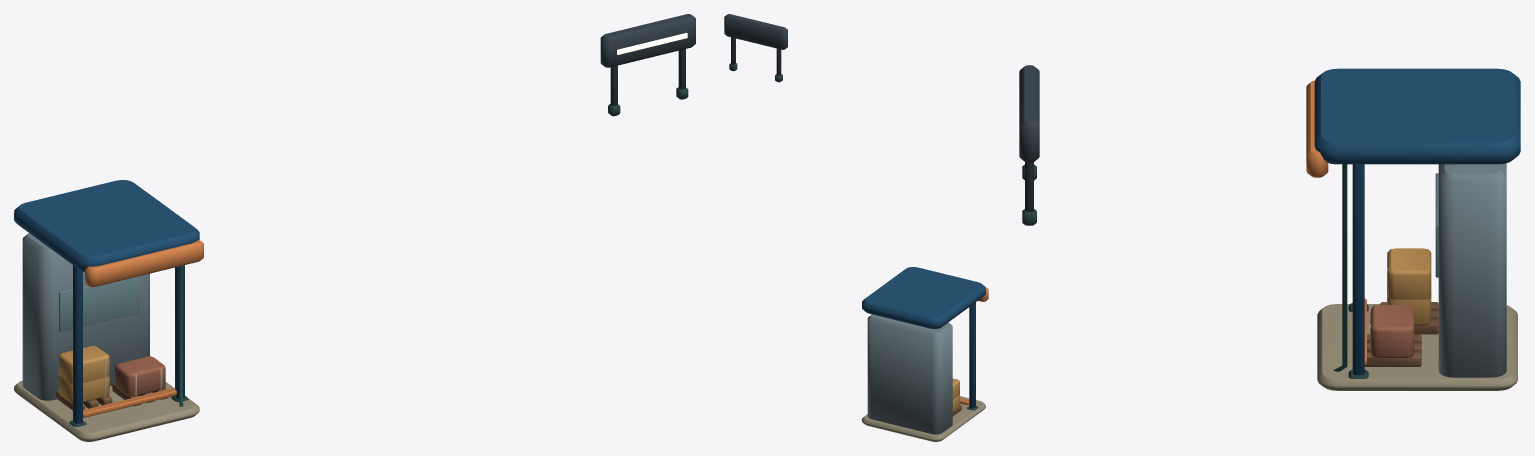
Rendered from metro_logistics_4.glb.
The picture shows the model from 3 angles, left to right: view 1: azimuth 30°, elevation 25°; view 2: azimuth 150°, elevation 25°; view 3: azimuth 270°, elevation 25°; orthographic projection. The views are drawn at different scales.
Visible parts, largest first — view 1: Logistics4; view 2: Logistics4; view 3: Logistics4.
Part boxes in pixels (<box>): Logistics4: <box>14,14,695,441</box>; Logistics4: <box>724,14,988,441</box>; Logistics4: <box>1017,65,1520,390</box>.
Size of the model in its own units: 9.61 by 7.07 by 6.23.
